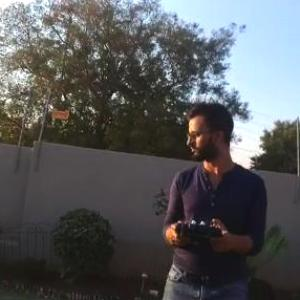follow: (161, 94, 280, 299)
